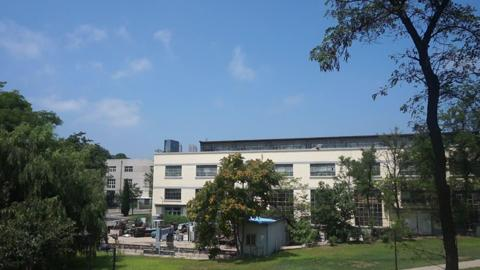UAV: (311, 144, 322, 151)
